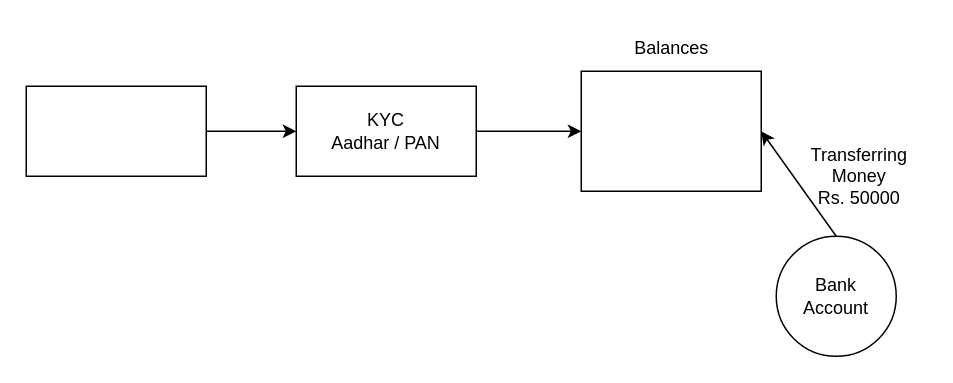
Image size: 953x383. Some labels were removed from this diagram. Each missing label, with the centre of its shape:
Rs. 0 Stocks: None Futures: None Options: None Mutual Funds: None: point (670, 130)
SIgn Up: point (115, 130)
